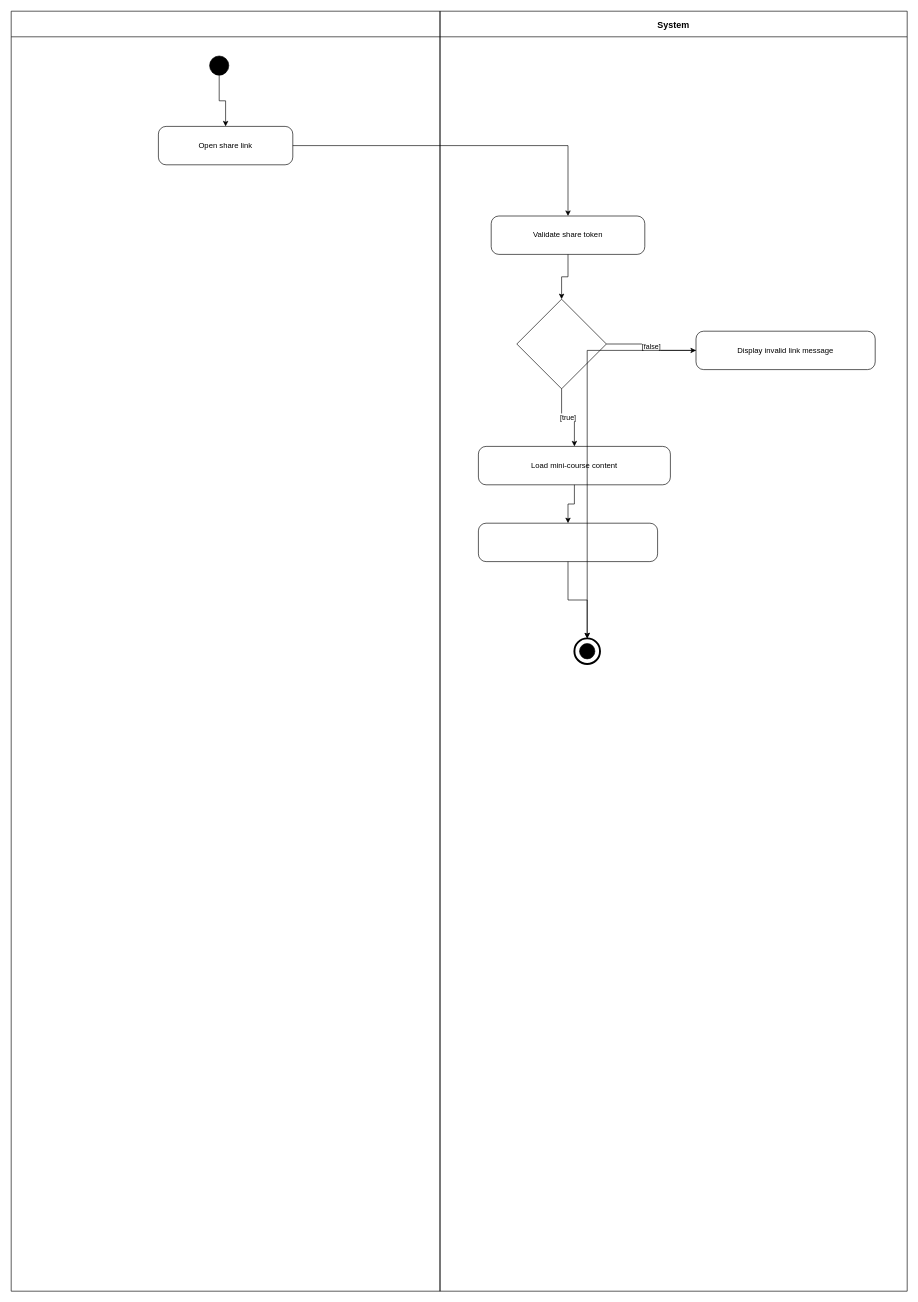
The diagram is 918 pixels wide and 1302 high, and some of its shapes have lost their labels. Here are the shapes that lost their labels. From the top down, the box of each, then its label:
(516, 299, 606, 389): Token valid?
(478, 523, 658, 562): Display lesson and quiz
(11, 11, 440, 1291): User
